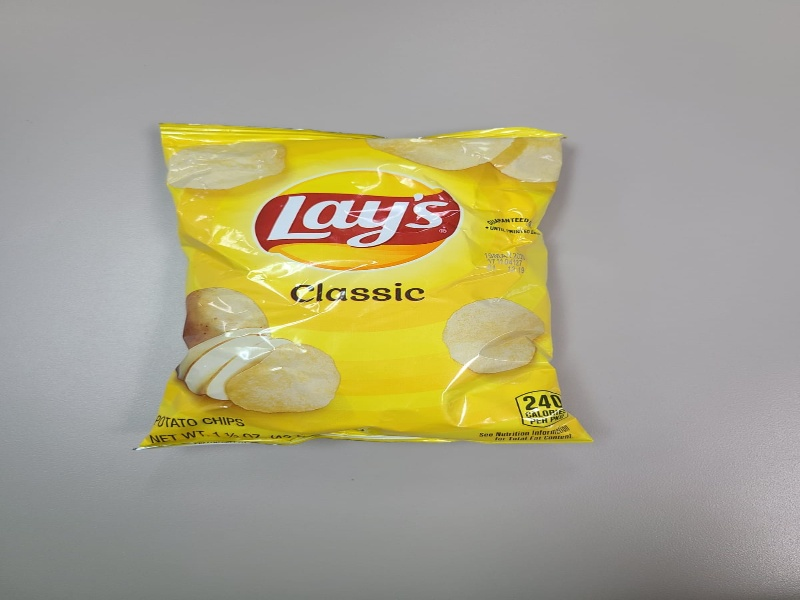lays: (133, 122, 596, 455)
